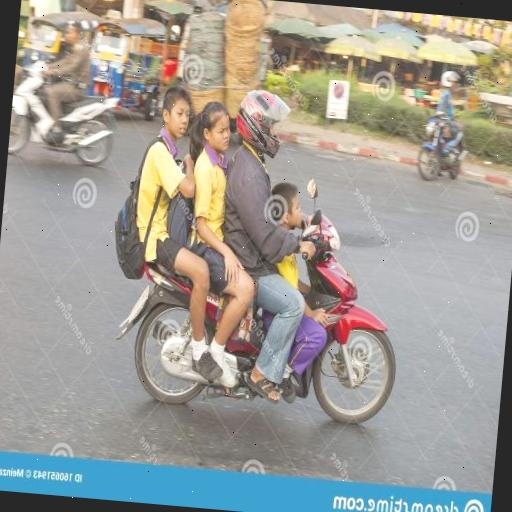helmet: (224, 76, 284, 178)
triple riding: (104, 56, 432, 462)
